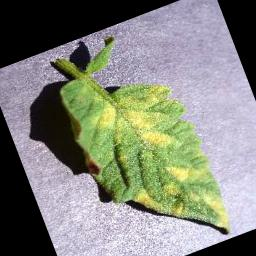Leaf_Mold: (82, 66, 195, 169), (164, 179, 235, 250), (163, 149, 214, 192), (130, 182, 165, 221), (162, 180, 178, 198)
